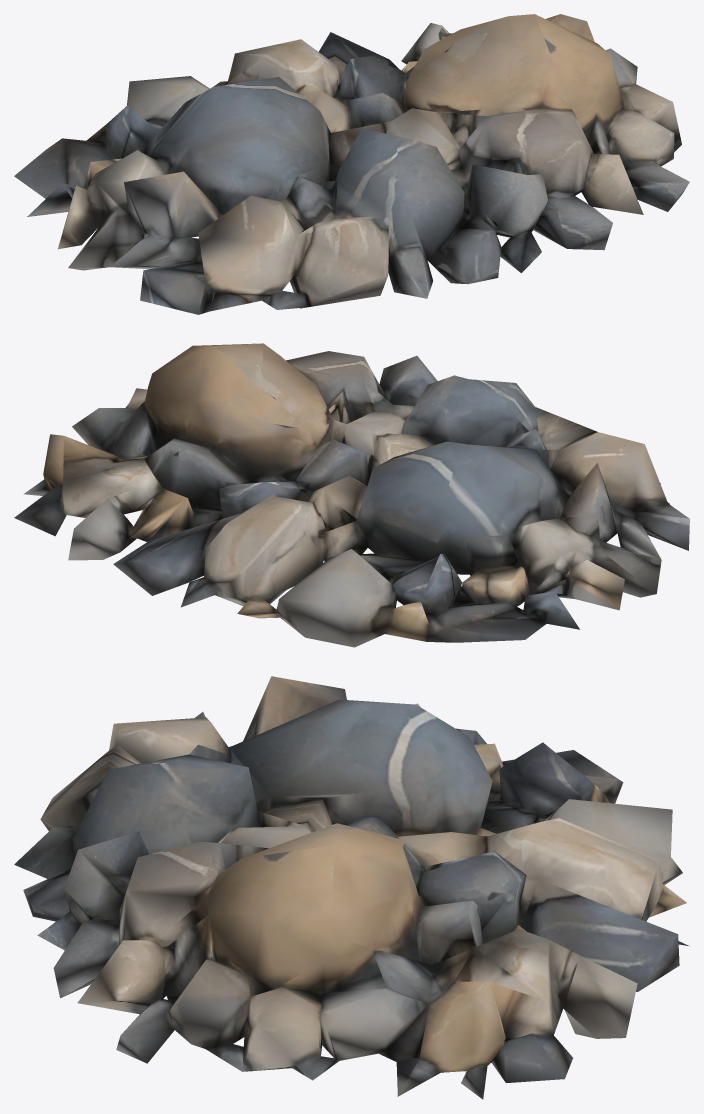
The model's file is env-pebbles.glb.
3 views of the same model, one above another, from view 1: azimuth 30°, elevation 25°; view 2: azimuth 150°, elevation 25°; view 3: azimuth 270°, elevation 25° (orthographic). The views are drawn at different scales.
Parts seen in each view (by area): view 1: tripo_node_6b35f541-b5dd-4679-82cf-9561a9ba2bca; view 2: tripo_node_6b35f541-b5dd-4679-82cf-9561a9ba2bca; view 3: tripo_node_6b35f541-b5dd-4679-82cf-9561a9ba2bca.
Boxes of the visible parts, x1=… form: tripo_node_6b35f541-b5dd-4679-82cf-9561a9ba2bca: x1=14, y1=14, x2=689, y2=314; tripo_node_6b35f541-b5dd-4679-82cf-9561a9ba2bca: x1=14, y1=343, x2=689, y2=647; tripo_node_6b35f541-b5dd-4679-82cf-9561a9ba2bca: x1=14, y1=676, x2=689, y2=1099.
Size of the model in its own units: 0.995 by 0.2435 by 0.7885.
1 material, 1 textured.
